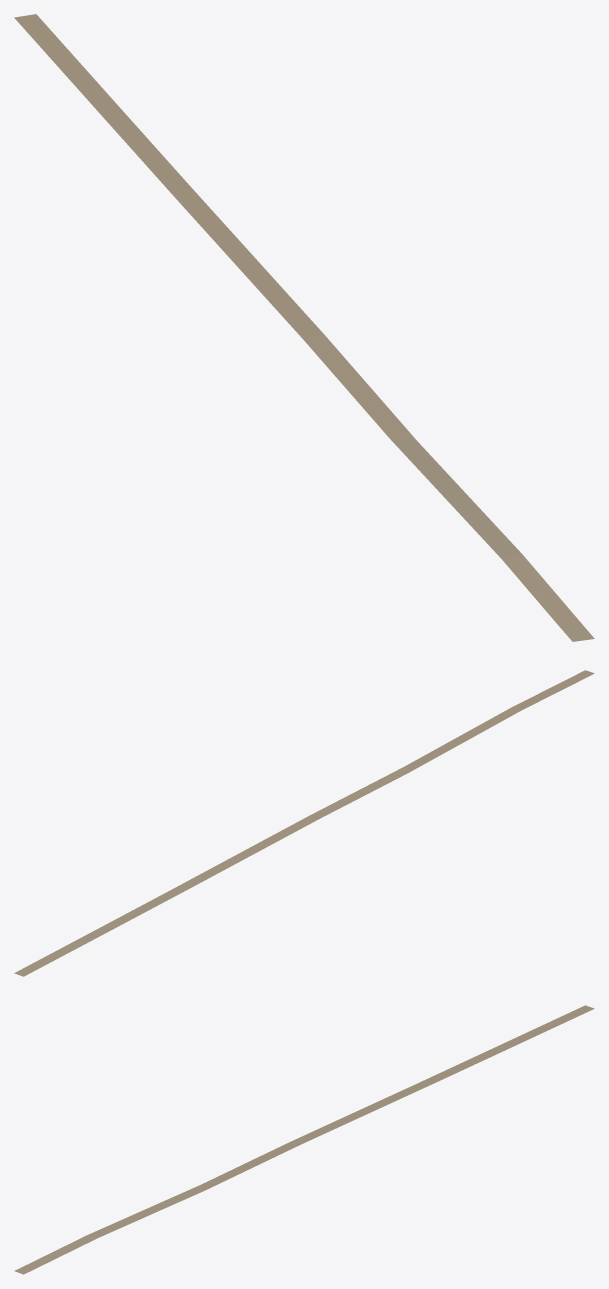
The model's file is farm_14_21_track.glb.
The picture shows the model from 3 angles, top to bottom: view 1: azimuth 30°, elevation 25°; view 2: azimuth 150°, elevation 25°; view 3: azimuth 330°, elevation 25°; orthographic projection. The views are drawn at different scales.
Visible parts, largest first — view 1: geometry_0; view 2: geometry_0; view 3: geometry_0.
Boxes of the visible parts, x1,y1,x2,y2 form: geometry_0: (14, 14, 594, 641); geometry_0: (14, 670, 594, 976); geometry_0: (14, 1005, 594, 1274).
Size of the model in its own units: 44.25 by 5.41 by 226.
